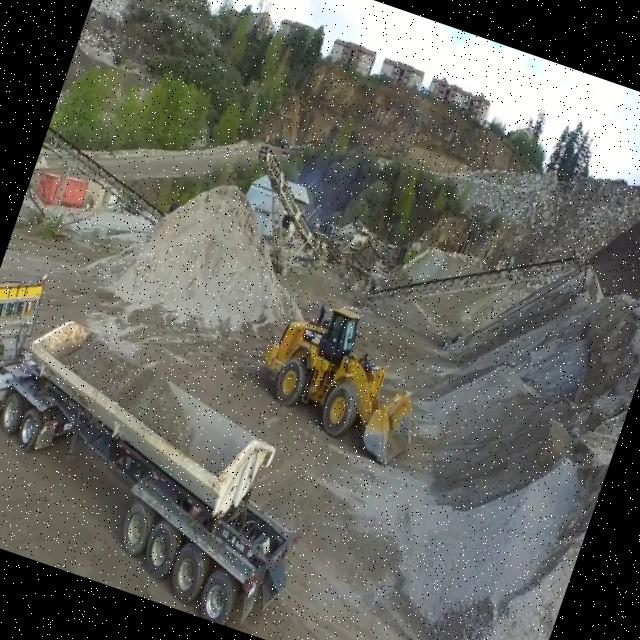Dump Truck: (0, 253, 359, 640)
Loader: (239, 282, 446, 474)
